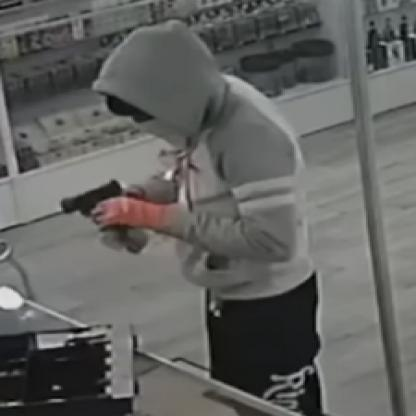criminal: (60, 20, 323, 416)
weapon: (60, 178, 128, 235)
